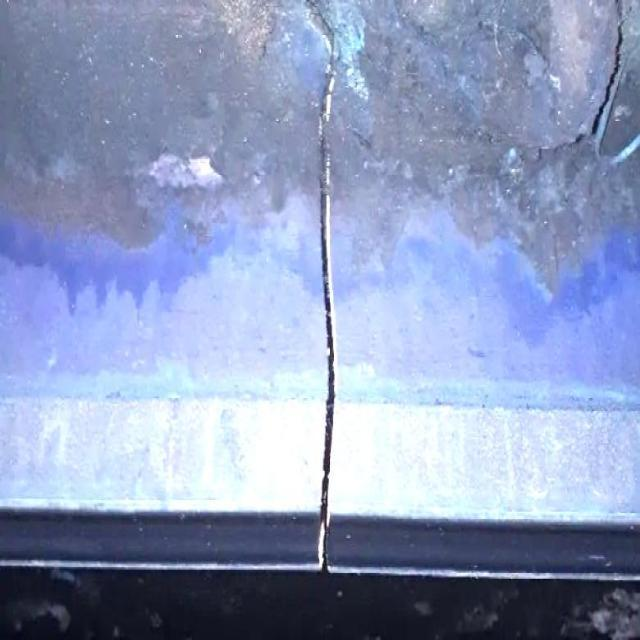broken_rail_medium: (303, 0, 369, 573)
